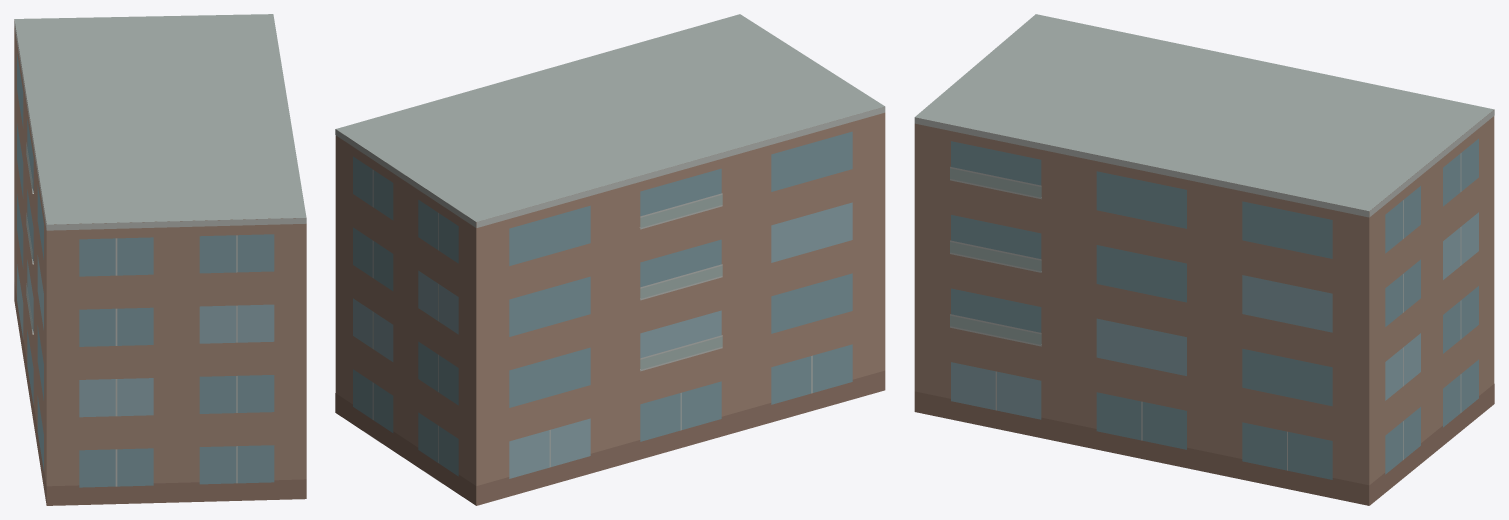
The model's file is survey-upis-32941074.glb.
The picture shows the model from 3 angles, left to right: view 1: azimuth 30°, elevation 25°; view 2: azimuth 150°, elevation 25°; view 3: azimuth 270°, elevation 25°; orthographic projection. The views are drawn at different scales.
Parts seen in each view (by area): view 1: survey-upis-32941074.tmp; view 2: survey-upis-32941074.tmp; view 3: survey-upis-32941074.tmp.
Part boxes in pixels (<box>): survey-upis-32941074.tmp: <box>14,14,306,505</box>; survey-upis-32941074.tmp: <box>335,14,885,505</box>; survey-upis-32941074.tmp: <box>914,14,1494,505</box>.
Bounding box in the file's own units: 16.38 × 11.4 × 20.34.
